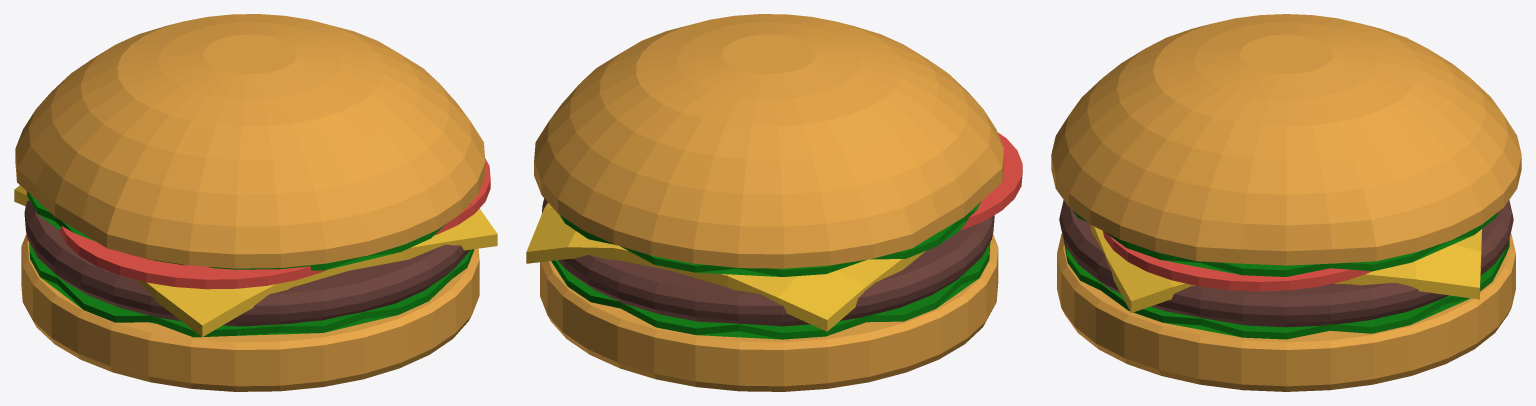
File: burger.glb
3 renders of one model, left to right at view 1: azimuth 30°, elevation 25°; view 2: azimuth 150°, elevation 25°; view 3: azimuth 270°, elevation 25°, orthographic.
Parts seen in each view (by area): view 1: Top, Bottom, Burger, Cheese, Tomatos, SalladBottom, SalladTop; view 2: Top, Bottom, Burger, Cheese, SalladBottom, SalladTop, Tomatos; view 3: Top, Bottom, Burger, Cheese, SalladBottom, Tomatos, SalladTop.
Part boxes in pixels (<box>): Top: <box>15,14,485,268</box>; Bottom: <box>21,234,479,391</box>; Burger: <box>24,200,469,326</box>; Cheese: <box>14,185,497,337</box>; Tomatos: <box>59,158,490,289</box>; SalladBottom: <box>29,242,474,337</box>; SalladTop: <box>27,191,470,270</box>; Top: <box>534,14,1003,268</box>; Bottom: <box>540,234,998,391</box>; Burger: <box>542,198,994,326</box>; Cheese: <box>526,203,925,331</box>; SalladBottom: <box>551,242,990,339</box>; SalladTop: <box>559,201,981,276</box>; Tomatos: <box>960,132,1022,230</box>; Top: <box>1051,14,1521,265</box>; Bottom: <box>1057,233,1515,391</box>; Burger: <box>1059,200,1513,327</box>; Cheese: <box>1090,225,1482,312</box>; SalladBottom: <box>1063,239,1509,339</box>; Tomatos: <box>1103,231,1371,291</box>; SalladTop: <box>1072,210,1498,276</box>.
Bounding box in the file's own units: 2.05 × 1.16 × 2.05.
